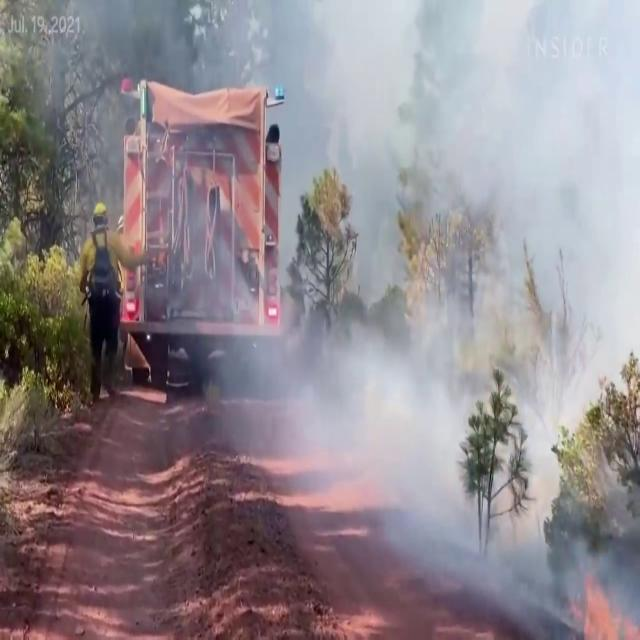Fire: (573, 567, 639, 640)
Smoke: (206, 228, 610, 600)
